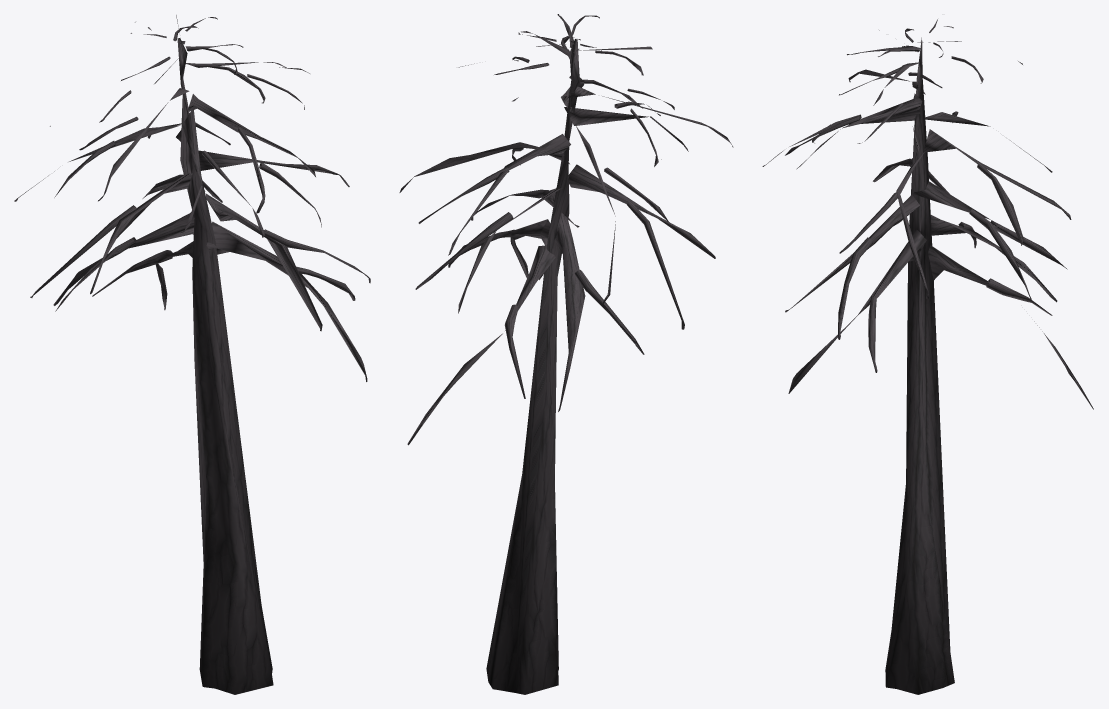
File: DeadTree_3@lod.gltf
3 views of the same model, side by side, from view 1: azimuth 30°, elevation 25°; view 2: azimuth 150°, elevation 25°; view 3: azimuth 270°, elevation 25° (orthographic). The views are drawn at different scales.
Parts seen in each view (by area): view 1: DeadTree_3; view 2: DeadTree_3; view 3: DeadTree_3.
Part boxes in pixels (<box>): DeadTree_3: <box>14,15,370,694</box>; DeadTree_3: <box>399,14,733,694</box>; DeadTree_3: <box>762,19,1093,694</box>.
Size of the model in its own units: 6.38 by 13.28 by 6.43.
Materials: 1 (1 with a texture image).
